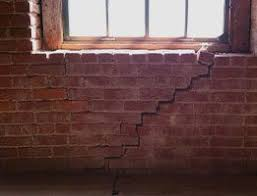stairstep_crack: (101, 54, 214, 172)
